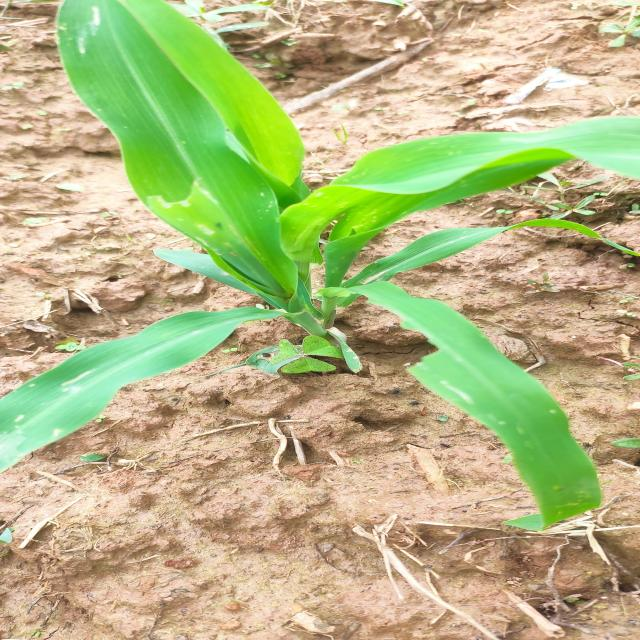maize: (31, 12, 640, 510)
